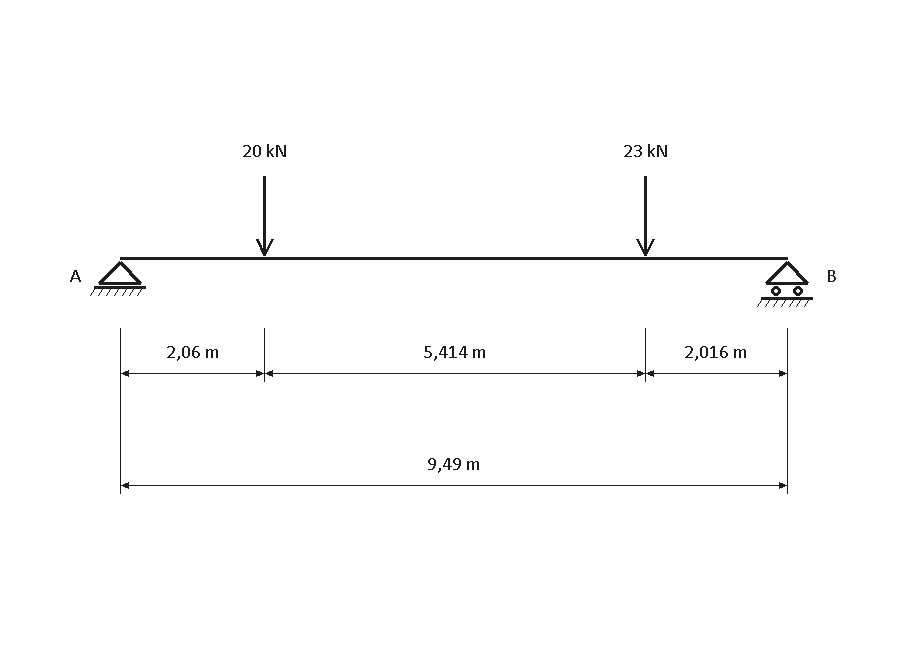pin_support: (90, 261, 146, 296)
point_load: (636, 176, 655, 256), (256, 176, 274, 256)
roller_support: (757, 261, 813, 307)
